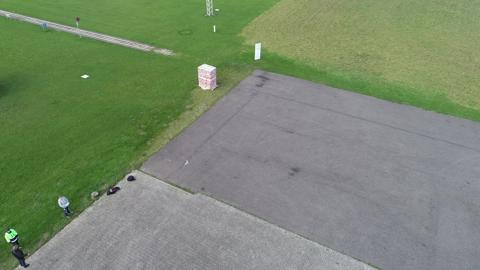RockwoolPallet: (197, 63, 218, 91)
